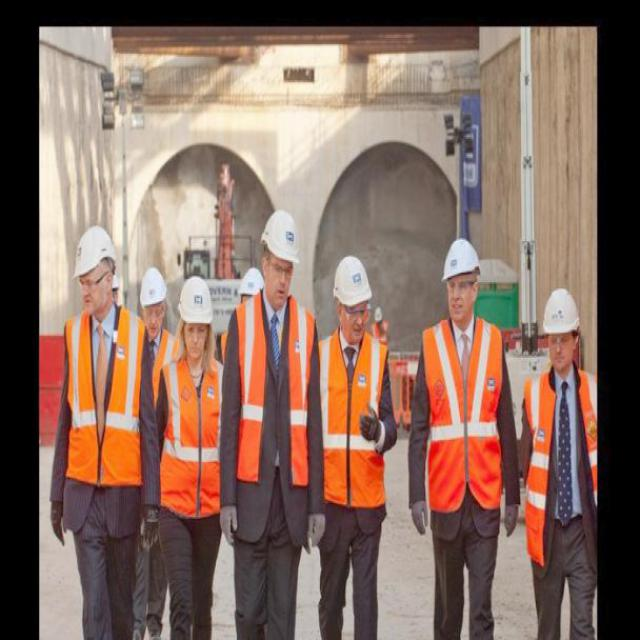gloves: (42, 474, 70, 547), (130, 492, 163, 548), (360, 397, 388, 459), (496, 493, 523, 546), (216, 503, 237, 552), (404, 498, 430, 536), (304, 514, 325, 552)
helmet: (69, 202, 122, 331), (170, 258, 219, 369), (253, 206, 306, 306), (430, 230, 483, 324), (334, 242, 381, 346), (538, 274, 585, 372), (138, 258, 164, 338)
vest: (235, 292, 320, 508), (518, 363, 598, 568), (60, 298, 136, 491), (418, 320, 499, 498), (320, 310, 378, 516), (157, 338, 218, 522)
